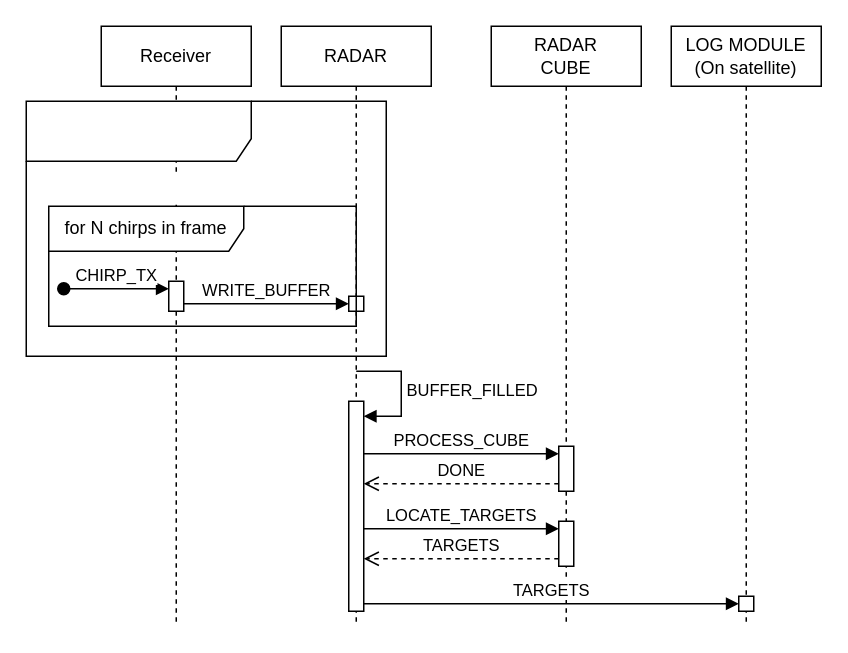
The diagram is 848 pixels wide and 653 high, and some of its shapes have lost their labels. The box of each missing label's shape, as (x1, y1, x2, y2) in pixels:
for N sweeps for N angles in sweep: (25, 100, 386, 356)
Rx channels in parallel: (48, 174, 228, 204)
